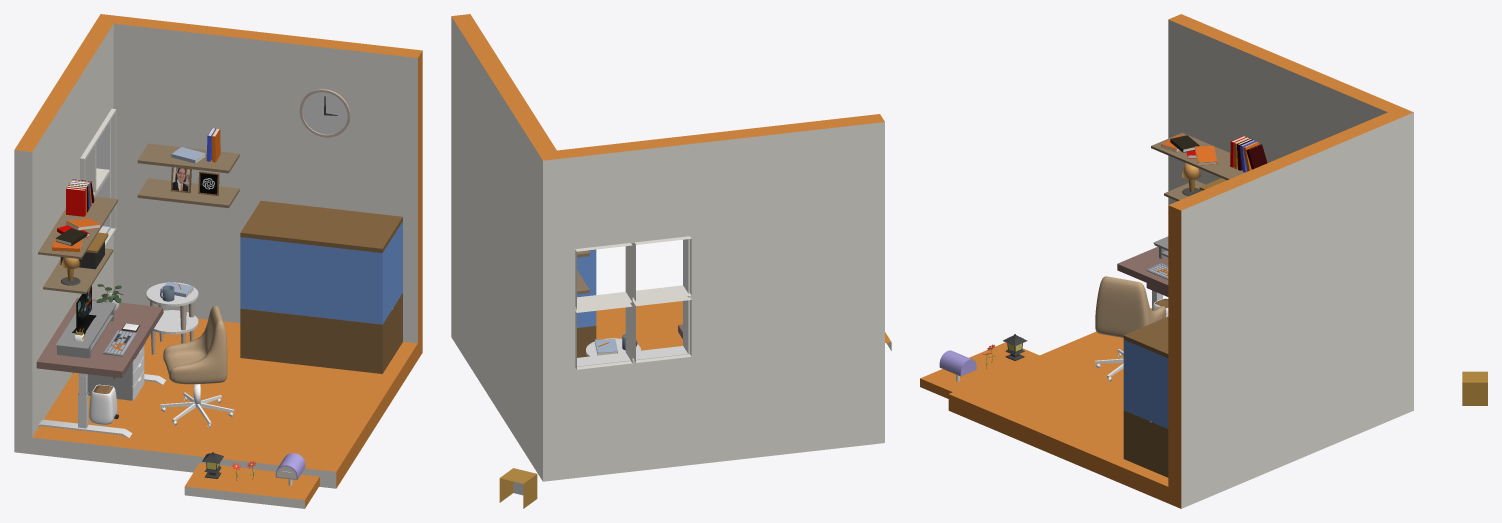
File: house 2.1.glb
3 views of the same model, side by side, from view 1: azimuth 30°, elevation 25°; view 2: azimuth 150°, elevation 25°; view 3: azimuth 270°, elevation 25° (orthographic). The views are drawn at different scales.
Parts seen in each view (by area): view 1: Room, Fish Tank, Table Base, Shelf 1, Shelf 2, Garden Floor, Desk Content, Chair seat, Stool, Clock, Chair, Mailbox; view 2: Room, Fish Tank, Cube, Stool; view 3: Room, Fish Tank, Shelf 1, Chair seat, Garden Floor, Table Base, Cube, Mailbox.
Boxes of the visible parts, x1=… form: Room: x1=14, y1=14, x2=422, y2=488; Fish Tank: x1=240, y1=200, x2=402, y2=373; Table Base: x1=36, y1=297, x2=165, y2=437; Shelf 1: x1=38, y1=179, x2=117, y2=293; Shelf 2: x1=137, y1=128, x2=239, y2=208; Garden Floor: x1=184, y1=461, x2=319, y2=508; Desk Content: x1=55, y1=284, x2=139, y2=358; Chair seat: x1=163, y1=305, x2=227, y2=384; Stool: x1=146, y1=281, x2=198, y2=354; Clock: x1=299, y1=89, x2=350, y2=137; Chair: x1=160, y1=384, x2=234, y2=427; Mailbox: x1=275, y1=453, x2=305, y2=485; Room: x1=451, y1=14, x2=884, y2=481; Fish Tank: x1=577, y1=249, x2=596, y2=357; Cube: x1=499, y1=468, x2=537, y2=508; Stool: x1=586, y1=334, x2=640, y2=356; Room: x1=948, y1=14, x2=1413, y2=508; Fish Tank: x1=1123, y1=316, x2=1168, y2=477; Shelf 1: x1=1151, y1=132, x2=1267, y2=201; Chair seat: x1=1095, y1=276, x2=1166, y2=337; Garden Floor: x1=920, y1=342, x2=1039, y2=398; Table Base: x1=1117, y1=246, x2=1168, y2=317; Cube: x1=1462, y1=371, x2=1487, y2=405; Mailbox: x1=939, y1=350, x2=976, y2=381.
Bounding box in the file's own units: 23.29 × 16.47 × 28.41.
Materials: 79 (4 with a texture image).
